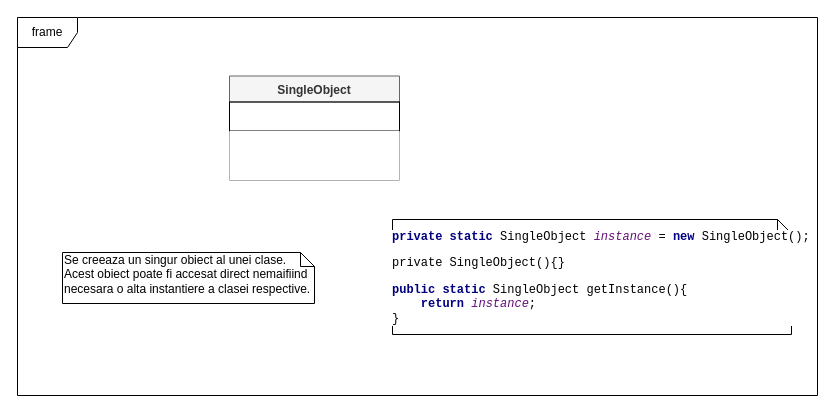
Image size: 835x413. Some labels were removed from this diagram. Here are the shapes that lost their labels. From the top down, the centre of each, then its label:
At point (314, 116): "- instance: SingleObject".
At point (314, 155): "- SingleObject() + getInstance(): SingleObject + showMessage(): void".
